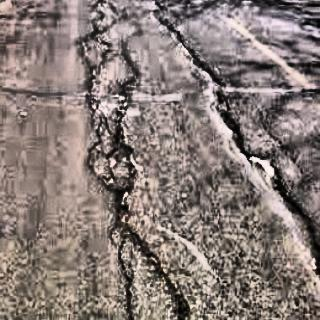alligator-crack: (81, 0, 138, 320)
crack: (147, 0, 320, 271)
